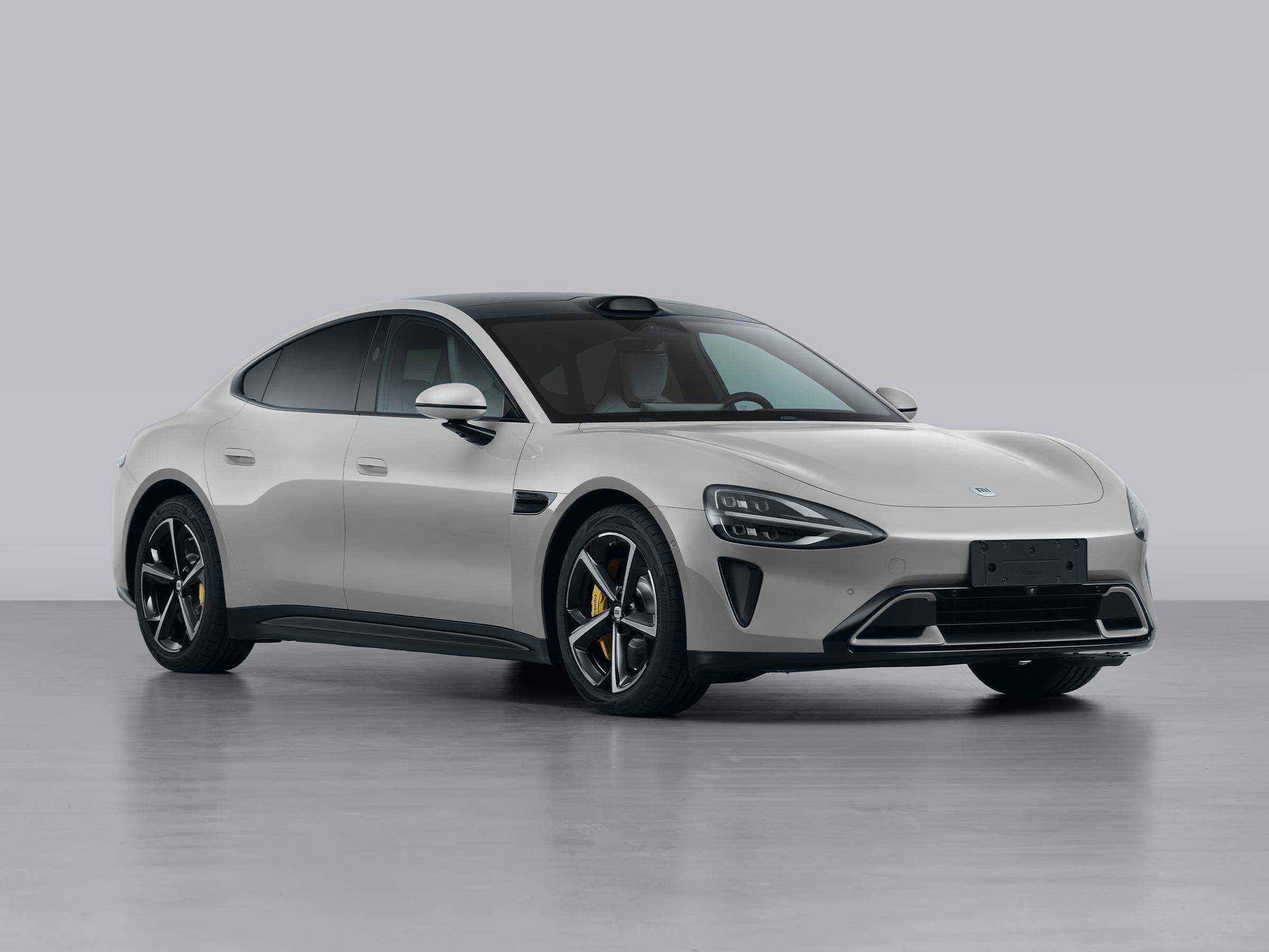su7: (96, 263, 1145, 717)
